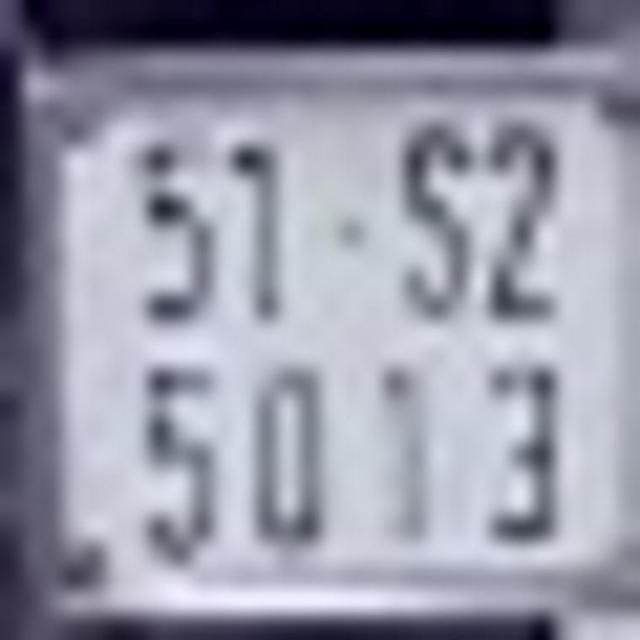0: (247, 362, 326, 536)
1: (381, 352, 438, 542), (234, 148, 289, 319)
2: (488, 129, 556, 314)
3: (490, 358, 563, 540)
5: (136, 131, 220, 319), (141, 369, 219, 560)
S: (406, 122, 466, 317)
